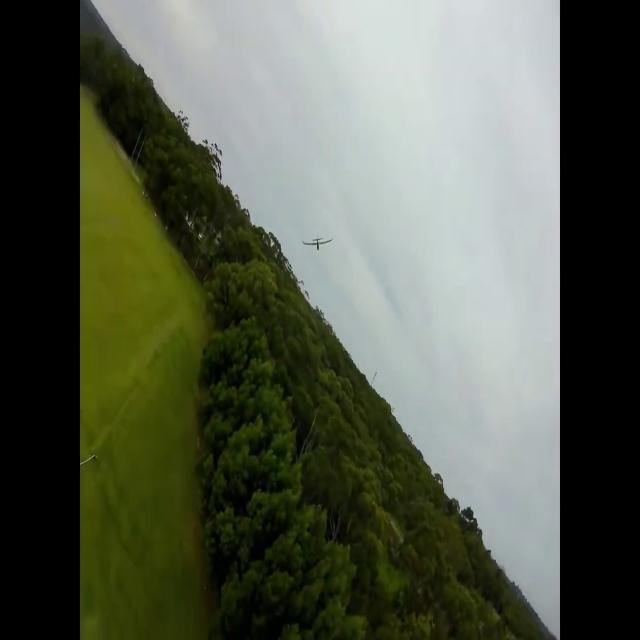iha: (302, 237, 333, 250)
